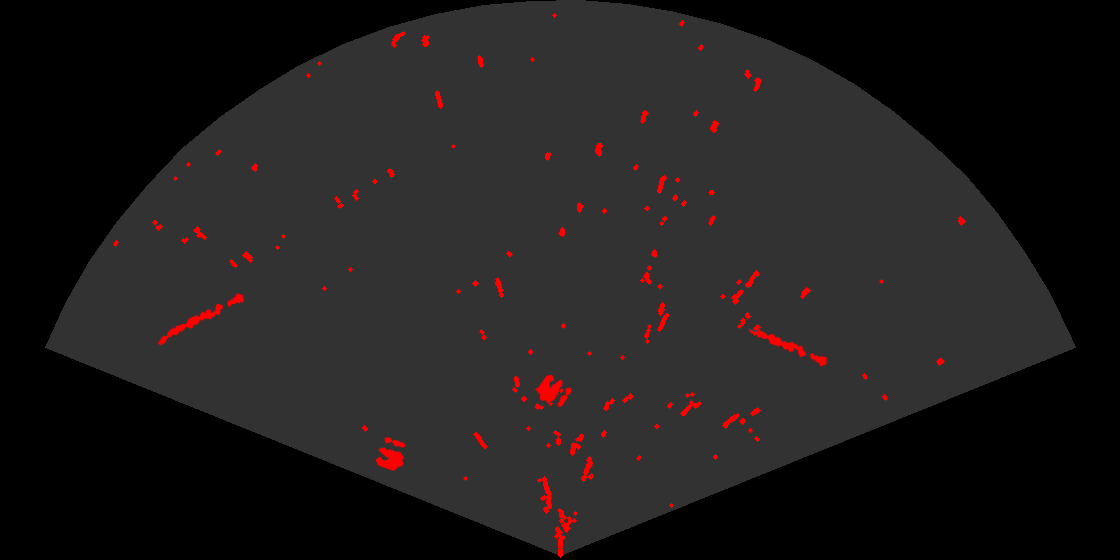ball: (536, 373, 573, 408), (374, 435, 407, 473)
chain: (156, 291, 246, 347), (747, 327, 829, 368)
